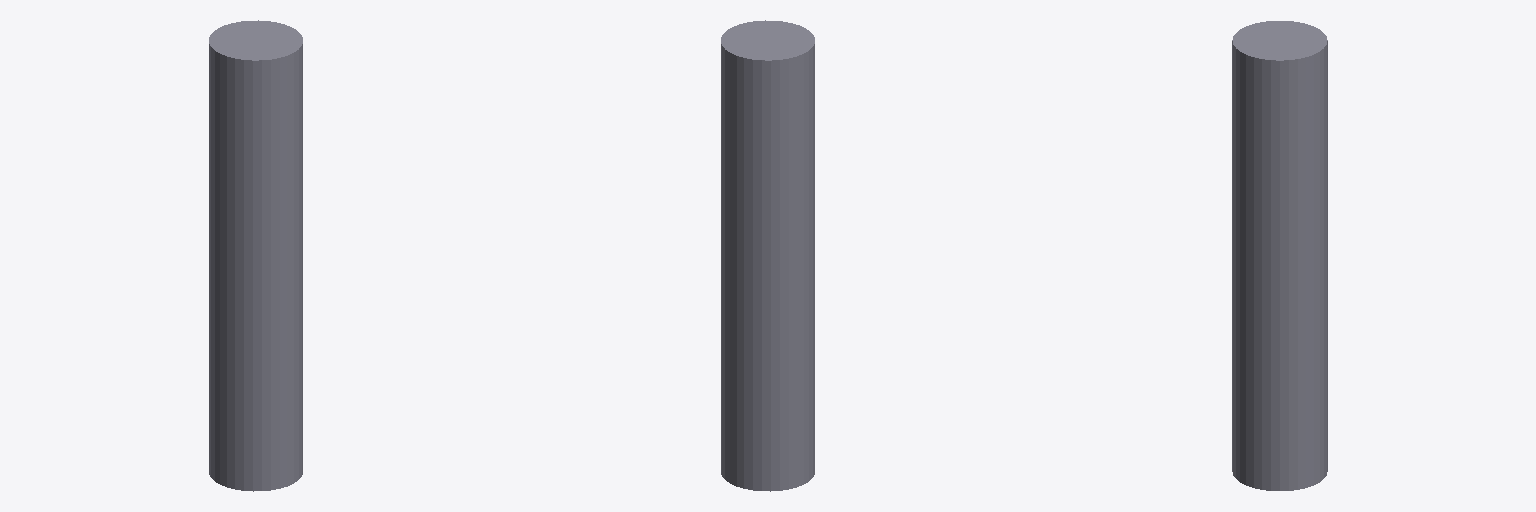
robot.urdf — articulated-arm:
<?xml version="1.0" encoding="UTF-8"?>
<robot name="articulated-arm"><material name="anodized"><color rgba="0.6 0.6 0.65 1.0"/></material><link name="base"></link><link name="shoulder"></link><link name="forearm"><visual name="forearm_vis"><geometry><cylinder radius="0.03" length="0.30"/></geometry><material name="anodized"/></visual></link><link name="wrist"></link><link name="finger_left"></link><link name="finger_right"></link><joint name="j1" type="revolute"><parent link="base"/><child link="shoulder"/><axis xyz="0 0 1"/><limit lower="-1.57" upper="1.57" effort="40" velocity="2.0"/></joint><joint name="j2" type="revolute"><parent link="shoulder"/><child link="forearm"/><origin xyz="0 0 0.05"/><axis xyz="0 1 0"/><limit lower="-2.6" upper="2.6" effort="30" velocity="2.5"/></joint><joint name="j_wrist" type="continuous"><parent link="forearm"/><child link="wrist"/><origin xyz="0 0 0.3"/><axis xyz="1 0 0"/></joint><joint name="j_finger_l" type="prismatic"><parent link="wrist"/><child link="finger_left"/><axis xyz="0 1 0"/><limit lower="0" upper="0.04" effort="60" velocity="0.1"/></joint><joint name="j_finger_r" type="prismatic"><parent link="wrist"/><child link="finger_right"/><axis xyz="0 1 0"/><limit lower="0" upper="0.04" effort="60" velocity="0.1"/><mimic joint="j_finger_l" multiplier="-1"/></joint></robot>

--- Facts derived from the render (not from the file) ---
The picture shows the robot from 3 angles, left to right: view 1: azimuth 30°, elevation 25°; view 2: azimuth 150°, elevation 25°; view 3: azimuth 270°, elevation 25°; orthographic projection.
Robot: articulated-arm — 6 links, 5 joints (2 revolute, 1 continuous, 2 prismatic); root link base; default pose: every joint at zero.
Links seen in each view (by area): view 1: forearm; view 2: forearm; view 3: forearm.
Boxes of the visible links, left/top/right/bottom form: forearm: left=209, top=20, right=302, bottom=491; forearm: left=721, top=20, right=814, bottom=491; forearm: left=1232, top=21, right=1327, bottom=490.
Size in the robot's own frame: 0.06 by 0.06 by 0.3 metres.
Geometry: primitives only (box / cylinder / sphere), no mesh files.
